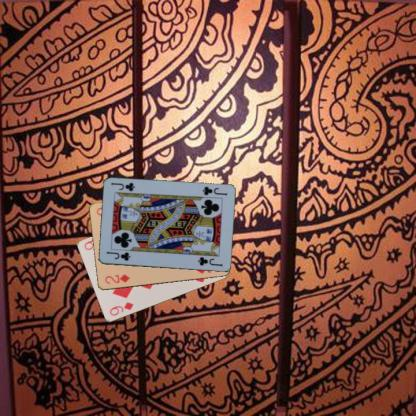2d: (102, 272, 131, 286)
9d: (107, 299, 135, 317)
Jc: (200, 184, 228, 197), (104, 249, 131, 262)
